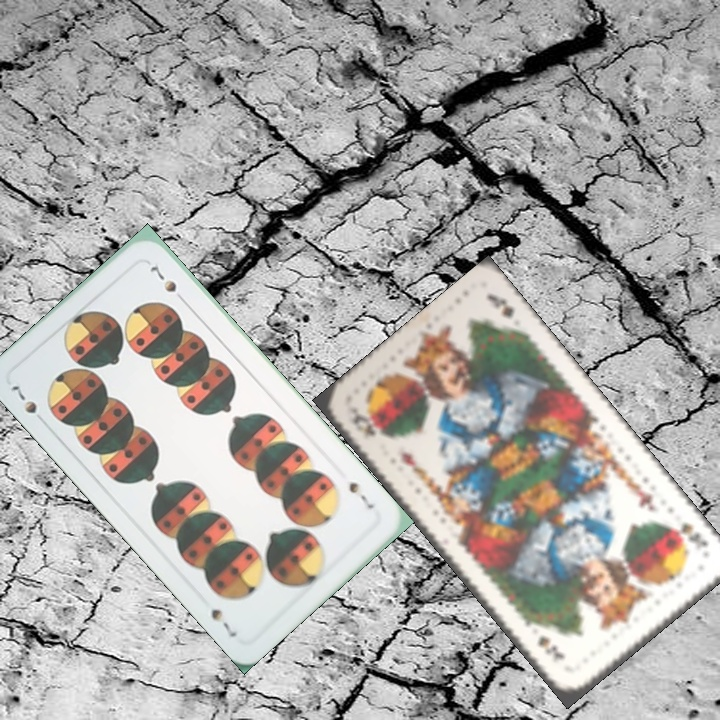S7: (7, 381, 49, 428), (344, 478, 376, 512)
SK: (666, 518, 711, 551), (346, 405, 379, 439)
